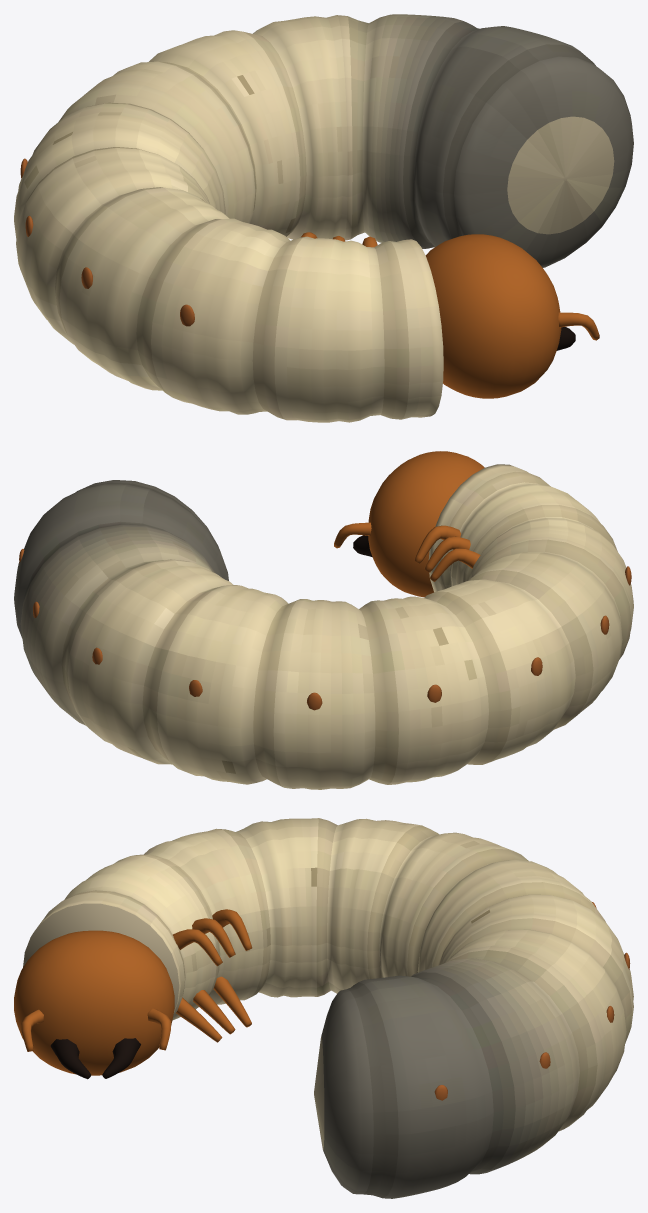
The model's file is bug_larva.glb.
3 views of the same model, one above another, from view 1: azimuth 30°, elevation 25°; view 2: azimuth 150°, elevation 25°; view 3: azimuth 270°, elevation 25° (orthographic). The views are drawn at different scales.
Visible parts, largest first — view 1: skin, head_shell, spiracles; view 2: skin, head_shell, legs, spiracles; view 3: skin, head_shell, legs, mandibles.
Boxes of the visible parts, bbox=[...] form: skin: bbox=[14, 14, 633, 422]; head_shell: bbox=[425, 234, 599, 398]; spiracles: bbox=[20, 158, 194, 326]; skin: bbox=[14, 464, 633, 789]; head_shell: bbox=[334, 451, 484, 597]; legs: bbox=[414, 525, 480, 581]; spiracles: bbox=[19, 549, 631, 710]; skin: bbox=[23, 818, 633, 1198]; head_shell: bbox=[14, 930, 174, 1075]; legs: bbox=[173, 909, 252, 1042]; mandibles: bbox=[50, 1038, 140, 1079].
Size of the model in its own units: 0.8562 by 0.3014 by 0.8459.
4 materials, 1 textured.
